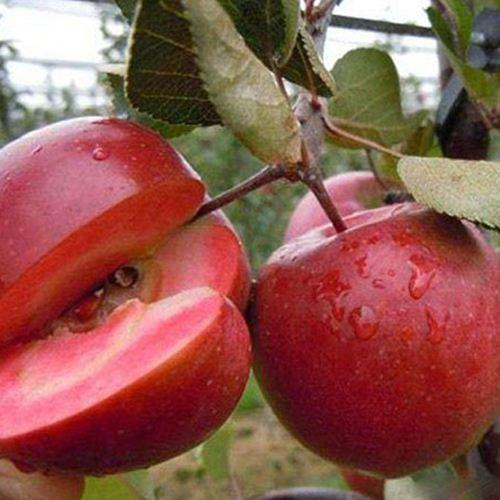apple: (2, 116, 253, 475), (252, 204, 500, 480)
